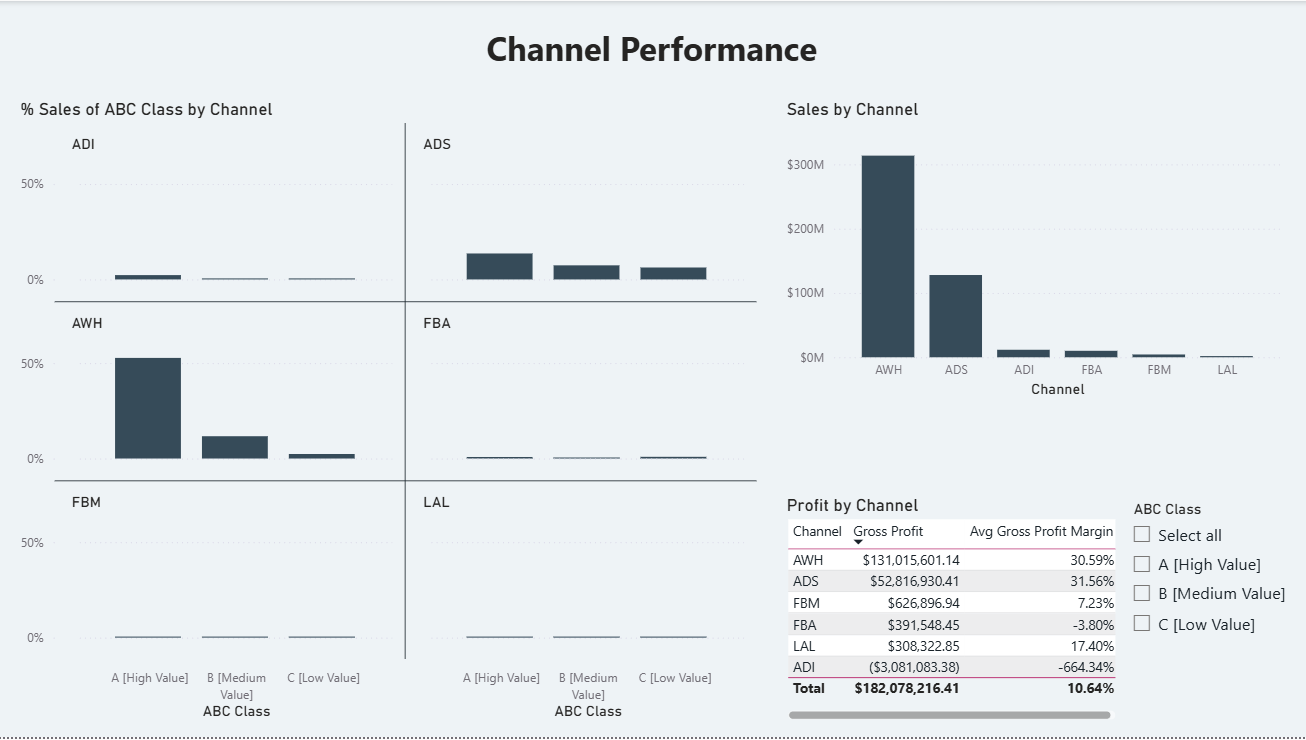

What the dashboard file says about the page in this screenshot:
{"tool":"powerbi","page":{"name":"Channel Analysis","canvas":[1280,720],"ordinal":1},"visuals":[{"type":"lineStackedColumnComboChart","title":"Sales by Channel","fields":{"Category":["Sales_ Data.channel"],"Y":["Sum(Sales_ Data.calc_revenue)"]},"box":[766.7,95.4,494,297.1],"z":0},{"type":"slicer","fields":{"Values":["ABC.ABC_class"]},"box":[1109.1,483,171.2,150.4],"z":1000},{"type":"tableEx","title":"Profit by Channel","fields":{"Values":["Sales_ Data.channel","Sum(Sales_ Data.gross_profit)","Avg(Sales_ Data.gross_profit_margin)"]},"box":[766.7,483,331.4,225],"z":2000},{"type":"clusteredColumnChart","title":"% Sales of ABC Class by Channel ","fields":{"Y":["Sum(Sales_ Data.calc_revenue)"],"Rows":["Sales_ Data.channel"],"Category":["ABC.ABC_class"]},"box":[17.1,95.4,731.3,612.6],"z":3000},{"type":"textbox","box":[397.9,19.6,484.2,62.4],"z":4000}]}

Visuals, with their boxes in screenshot pixels (x1, y1, x2, y2), scaled from the page's 1280x720 canvas onto the 1306x740 screenshot:
"Sales by Channel" lineStackedColumnComboChart: Rect(782, 98, 1286, 403)
slicer - ABC.ABC_class: Rect(1132, 496, 1305, 651)
"Profit by Channel" tableEx: Rect(782, 496, 1120, 728)
"% Sales of ABC Class by Channel " clusteredColumnChart: Rect(17, 98, 764, 728)
textbox: Rect(406, 20, 900, 84)
